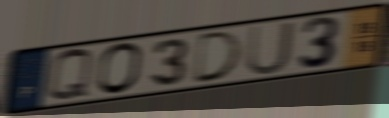3: (295, 15, 344, 71), (148, 37, 192, 87)
D: (190, 28, 245, 86)
O: (95, 41, 144, 97)
Q: (45, 46, 96, 104)
U: (245, 19, 297, 78)
